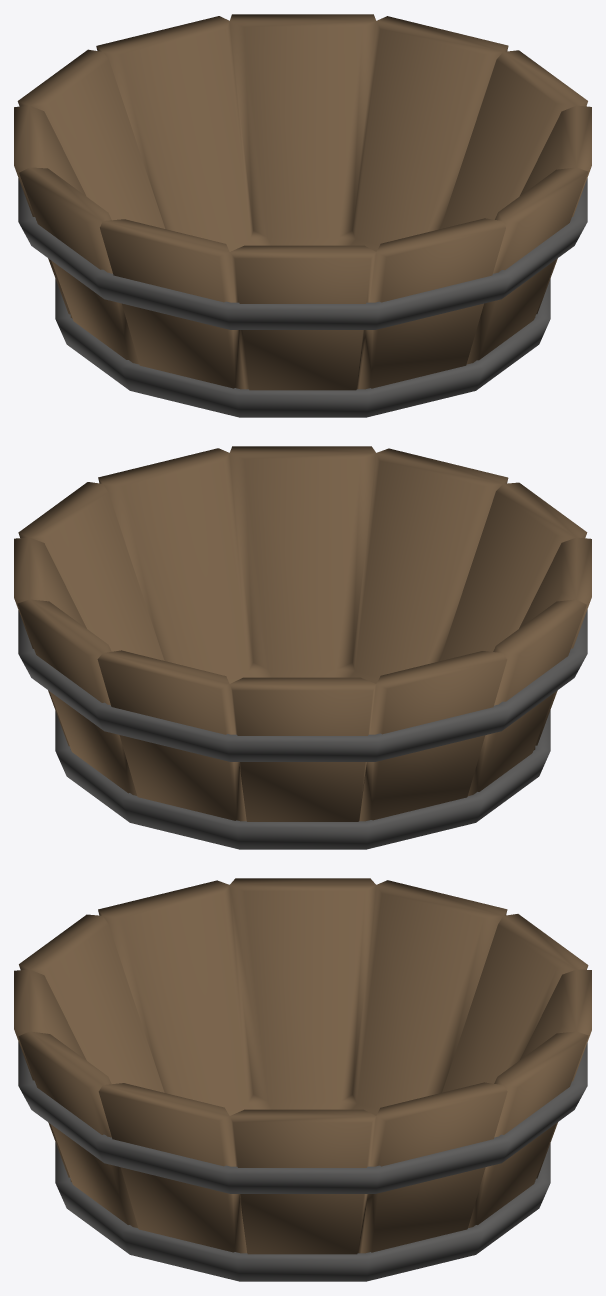
Rendered from rpgpp_lt_bathtub_wood_01 -col.glb.
The picture shows the model from 3 angles, top to bottom: view 1: azimuth 30°, elevation 25°; view 2: azimuth 150°, elevation 25°; view 3: azimuth 270°, elevation 25°; orthographic projection.
Parts seen in each view (by area): view 1: rpgpp_lt_bathtub_wood_01 -col; view 2: rpgpp_lt_bathtub_wood_01 -col; view 3: rpgpp_lt_bathtub_wood_01 -col.
Boxes of the visible parts, box(x1,y1,x2,y2) form: rpgpp_lt_bathtub_wood_01 -col: box(14, 14, 591, 417); rpgpp_lt_bathtub_wood_01 -col: box(14, 446, 591, 849); rpgpp_lt_bathtub_wood_01 -col: box(14, 878, 591, 1281).
Bounding box in the file's own units: 1.53 × 0.5279 × 1.53.
Materials: 1 (1 with a texture image).
